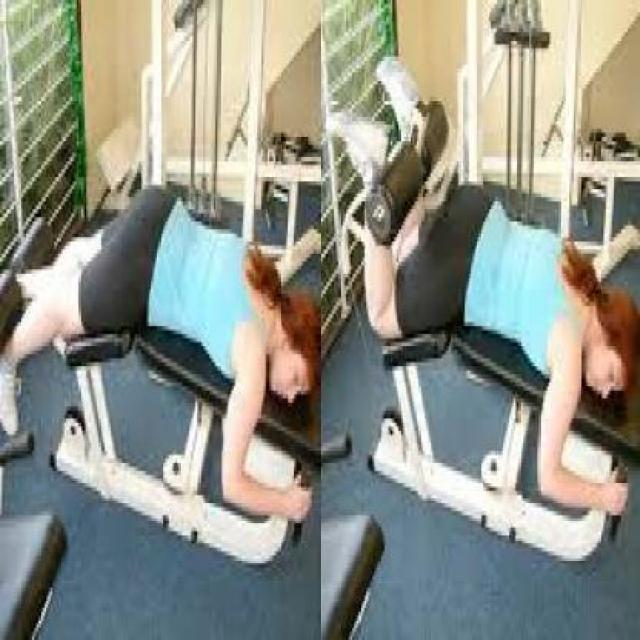reg curl machine: (327, 58, 640, 563), (1, 175, 322, 572)
